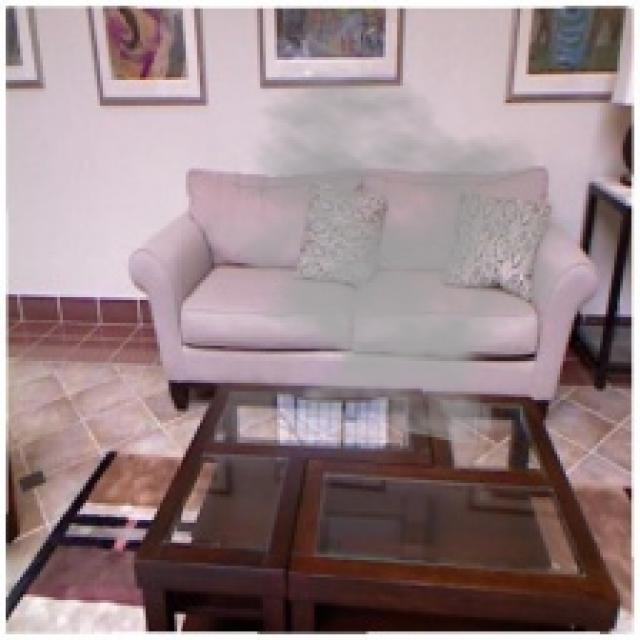smoke: (197, 63, 586, 448)
